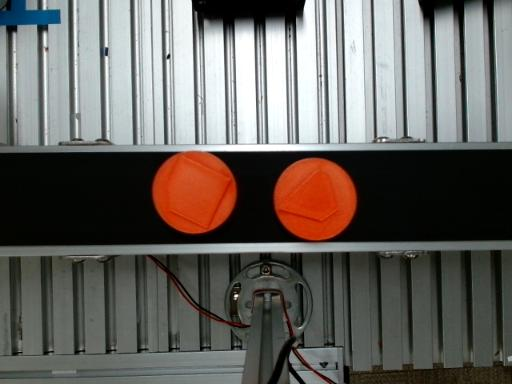Not_Square: (165, 155, 231, 229), (277, 167, 338, 222)
Orange_Waper: (152, 151, 237, 234), (274, 158, 354, 240)
